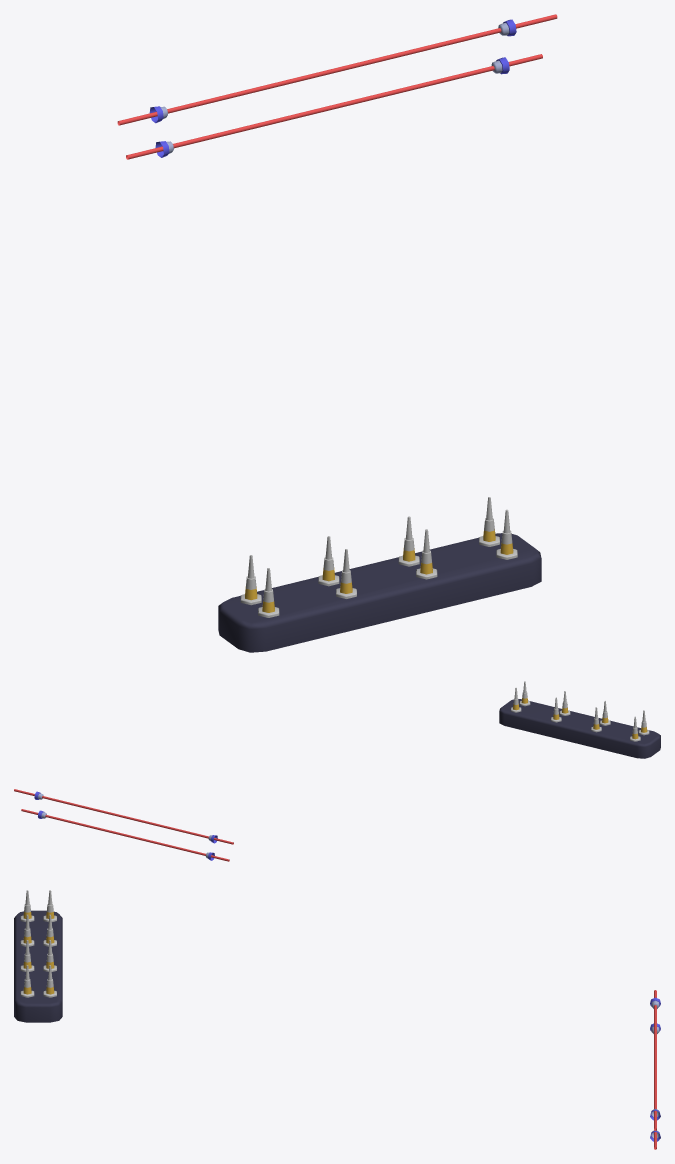
The model's file is Level21_Objects.fbx.
3 views of the same model, one above another, from view 1: azimuth 30°, elevation 25°; view 2: azimuth 150°, elevation 25°; view 3: azimuth 270°, elevation 25° (orthographic). The views are drawn at different scales.
Parts seen in each view (by area): view 1: Base, Laser (×2); view 2: Base, Laser (×2); view 3: Base, Laser.
Boxes of the visible parts, <box> form: Base: <box>218,533,541,652</box>; Laser (×2): <box>117,14,557,159</box>; Base: <box>499,699,660,758</box>; Laser (×2): <box>14,789,233,861</box>; Base: <box>14,910,62,1022</box>; Laser: <box>654,990,656,1130</box>.
Size of the model in its own units: 204 by 21.21 by 219.
